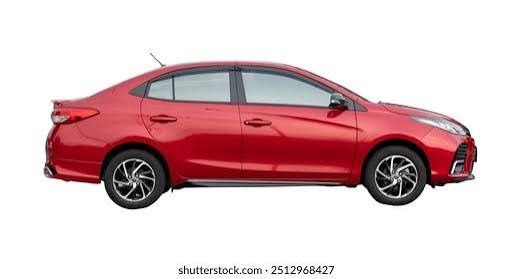car: (34, 57, 488, 209), (39, 65, 470, 203)
